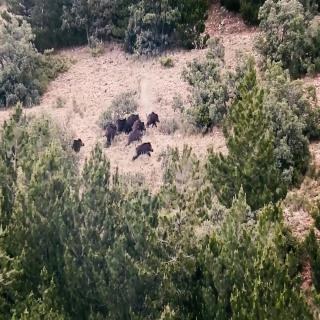Pig: (132, 140, 159, 164), (145, 105, 168, 132), (72, 131, 88, 153), (104, 122, 119, 144), (128, 127, 144, 142)
